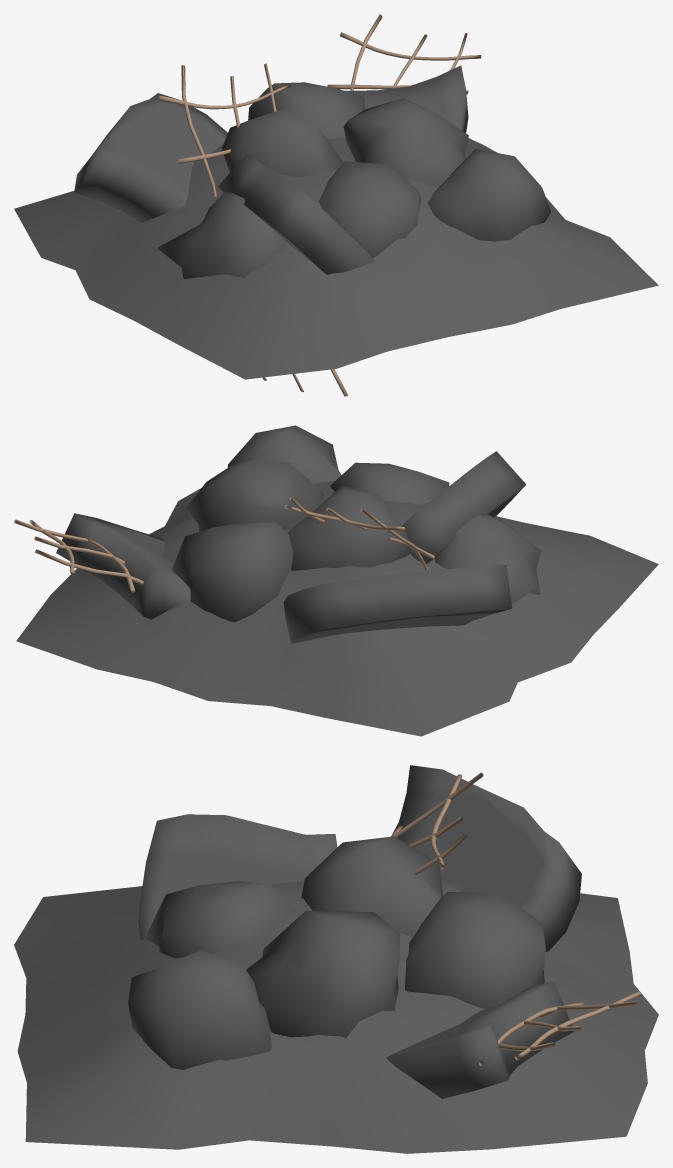
File: Tumpukan.fbx
The picture shows the model from 3 angles, top to bottom: view 1: azimuth 30°, elevation 25°; view 2: azimuth 150°, elevation 25°; view 3: azimuth 270°, elevation 25°; orthographic projection. The views are drawn at different scales.
Visible parts, largest first — view 1: Icosphere.002; view 2: Icosphere.002; view 3: Icosphere.002.
Boxes of the visible parts, left/top/right/bottom form: Icosphere.002: left=14, top=14, right=658, bottom=396; Icosphere.002: left=14, top=425, right=658, bottom=736; Icosphere.002: left=14, top=765, right=658, bottom=1153.
Size of the model in its own units: 851 by 436 by 830.
